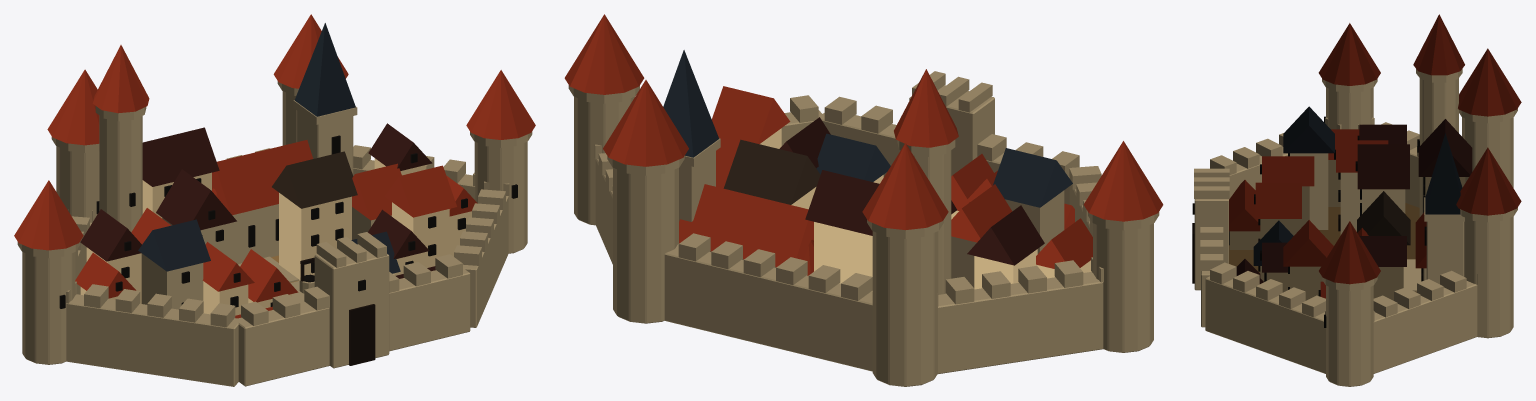
The model's file is settle_2.obj.
3 views of the same model, side by side, from view 1: azimuth 30°, elevation 25°; view 2: azimuth 150°, elevation 25°; view 3: azimuth 270°, elevation 25° (orthographic). The views are drawn at different scales.
Parts seen in each view (by area): view 1: core_stone, core_roof_civic, core_roof_tile_old, core_roof_tile, core_plaster, core_roof_shingle, core_slate, core_roof_slate, core_window, core_wood_dark; view 2: core_stone, core_roof_civic, core_roof_tile, core_roof_tile_old, core_roof_slate, core_plaster, core_roof_shingle, core_slate; view 3: core_stone, core_roof_civic, core_roof_tile, core_roof_tile_old, core_plaster, core_roof_slate, core_slate, core_roof_shingle, core_cloth, core_window.
Boxes of the visible parts, x1,y1,x2,y2 form: core_stone: (17,81,532,386); core_roof_civic: (14,14,535,250); core_roof_tile_old: (80,123,435,278); core_roof_tile: (75,163,477,318); core_plaster: (80,158,471,315); core_roof_shingle: (272,151,357,208); core_slate: (294,23,355,116); core_roof_slate: (138,219,400,273); core_window: (59,135,517,308); core_wood_dark: (300,257,375,365); core_stone: (568,71,1159,386); core_roof_civic: (564,14,1163,275); core_roof_tile: (711,86,1092,268); core_roof_tile_old: (779,117,1044,265); core_roof_slate: (816,133,1072,207); core_plaster: (760,128,1091,291); core_roof_shingle: (723,139,820,204); core_slate: (663,50,719,157); core_stone: (1194,69,1517,386); core_roof_civic: (1318,14,1521,284); core_roof_tile: (1229,129,1388,298); core_roof_tile_old: (1236,119,1472,283); core_plaster: (1229,160,1465,300); core_roof_slate: (1253,106,1334,265); core_slate: (1425,133,1462,214); core_roof_shingle: (1357,191,1410,245); core_cloth: (1229,203,1419,292); core_window: (1192,116,1426,327).
Size of the model in its own units: 1.72 by 0.782 by 1.07.
